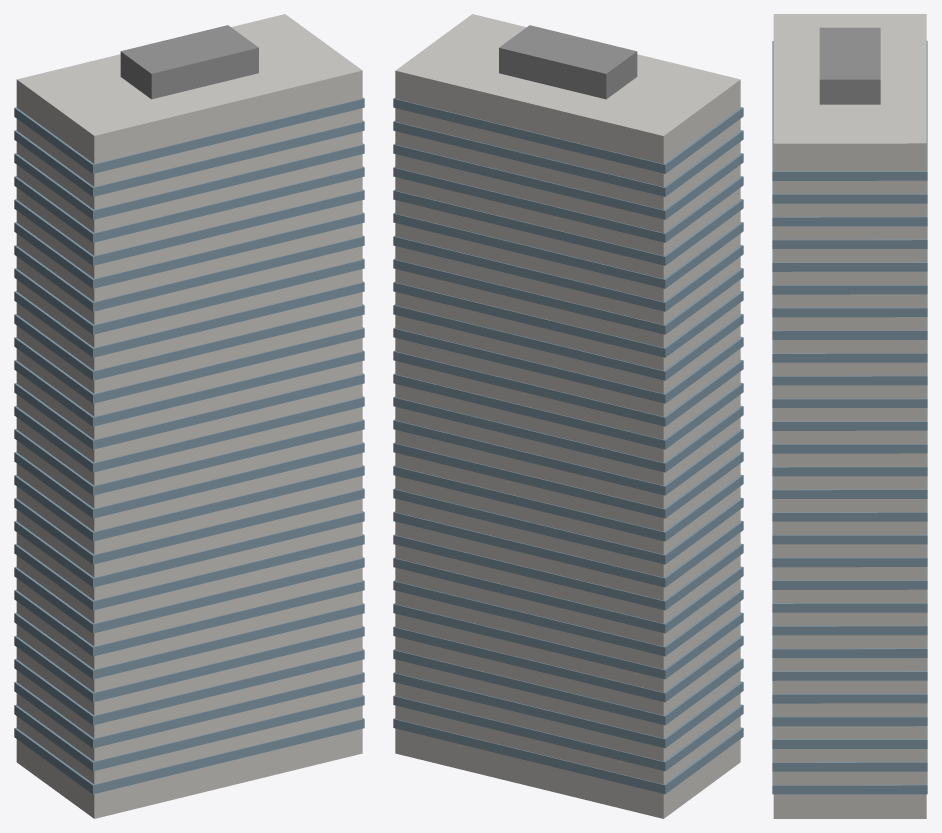
The model's file is landmark-basel-messeturm.eb15bc7a5b.glb.
3 renders of one model, left to right at view 1: azimuth 30°, elevation 25°; view 2: azimuth 150°, elevation 25°; view 3: azimuth 270°, elevation 25°, orthographic.
Parts seen in each view (by area): view 1: building; view 2: building; view 3: building.
Boxes of the visible parts, bbox=[...] form: building: bbox=[14, 14, 364, 818]; building: bbox=[393, 14, 743, 818]; building: bbox=[772, 14, 927, 818].
Bounding box in the file's own units: 44.64 × 111 × 22.26.
